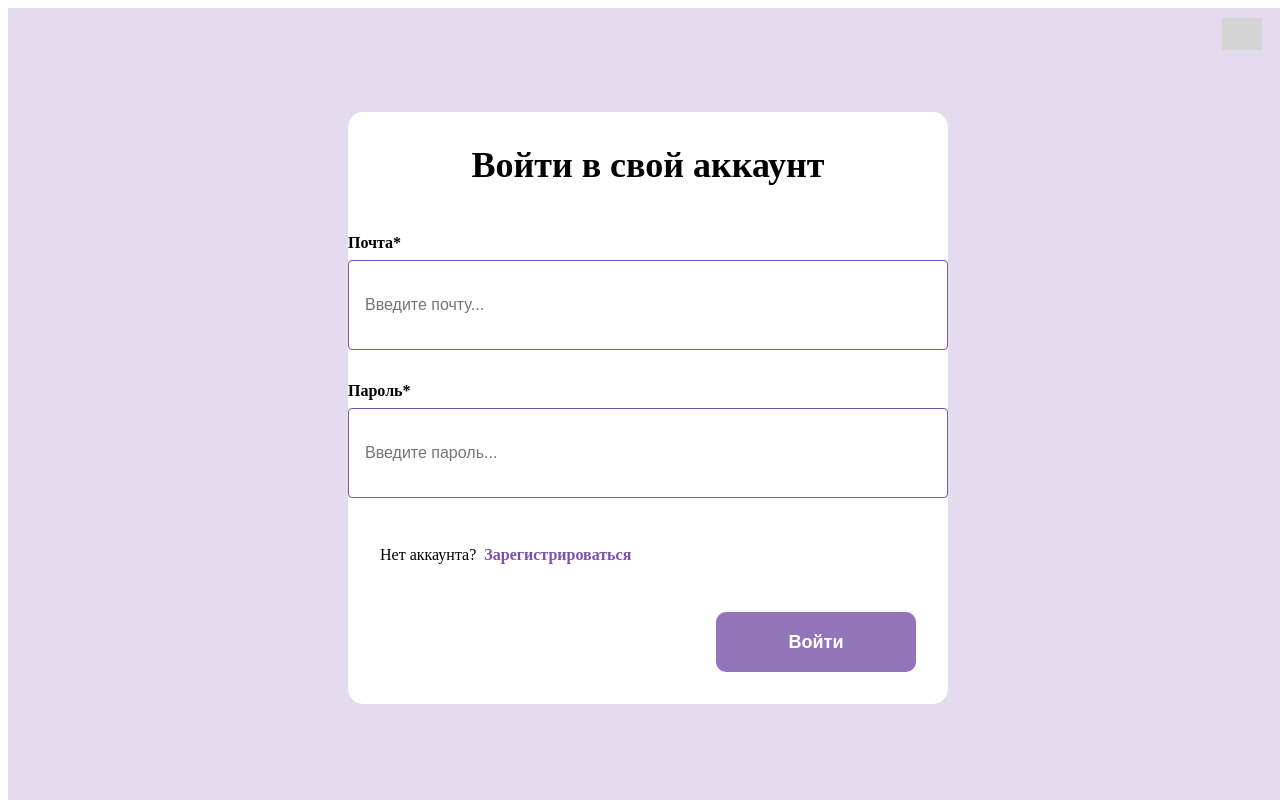
Test: Testing SignIn SUCCESS › submit sign-in form with incorrect email
Type "any email" into the field labelled "Почта*" at (648, 305), box [348,260,948,350]
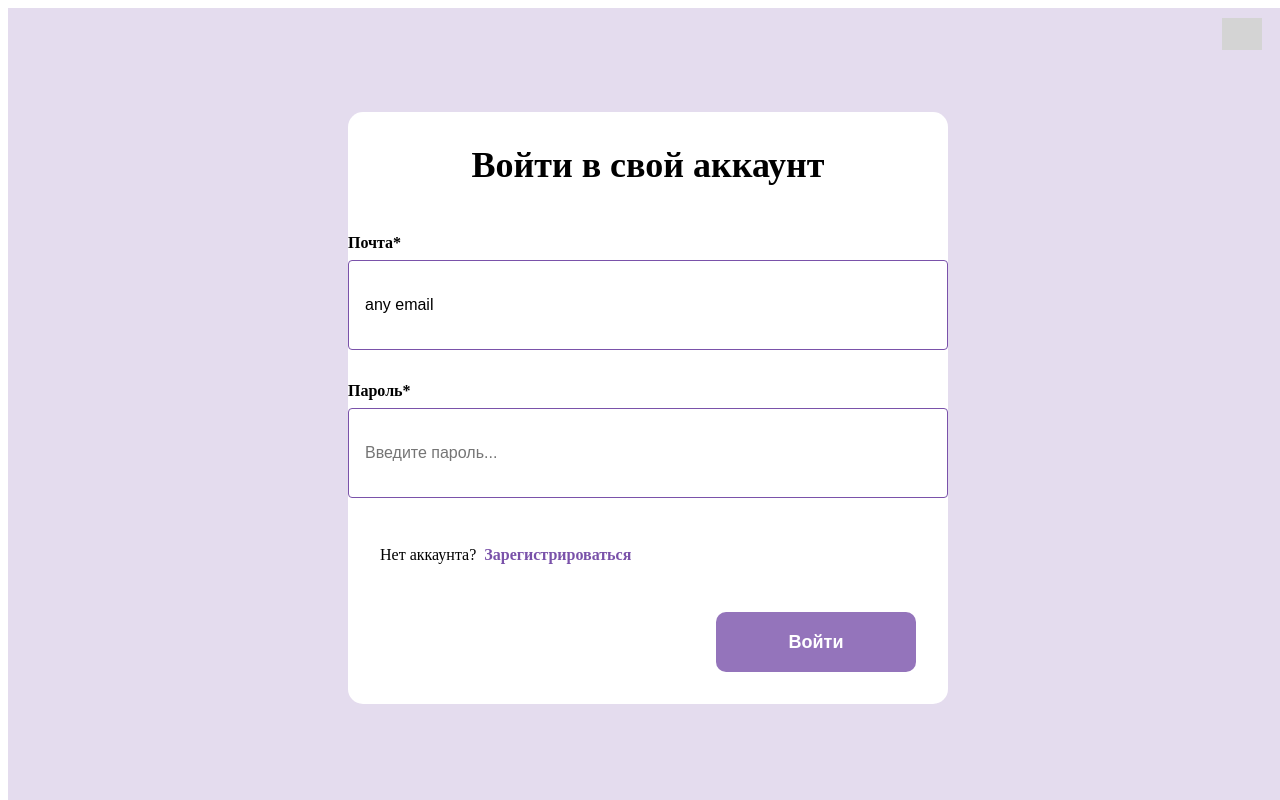
Submit the form from the element with test id "signin-form", box [316,234,980,498]
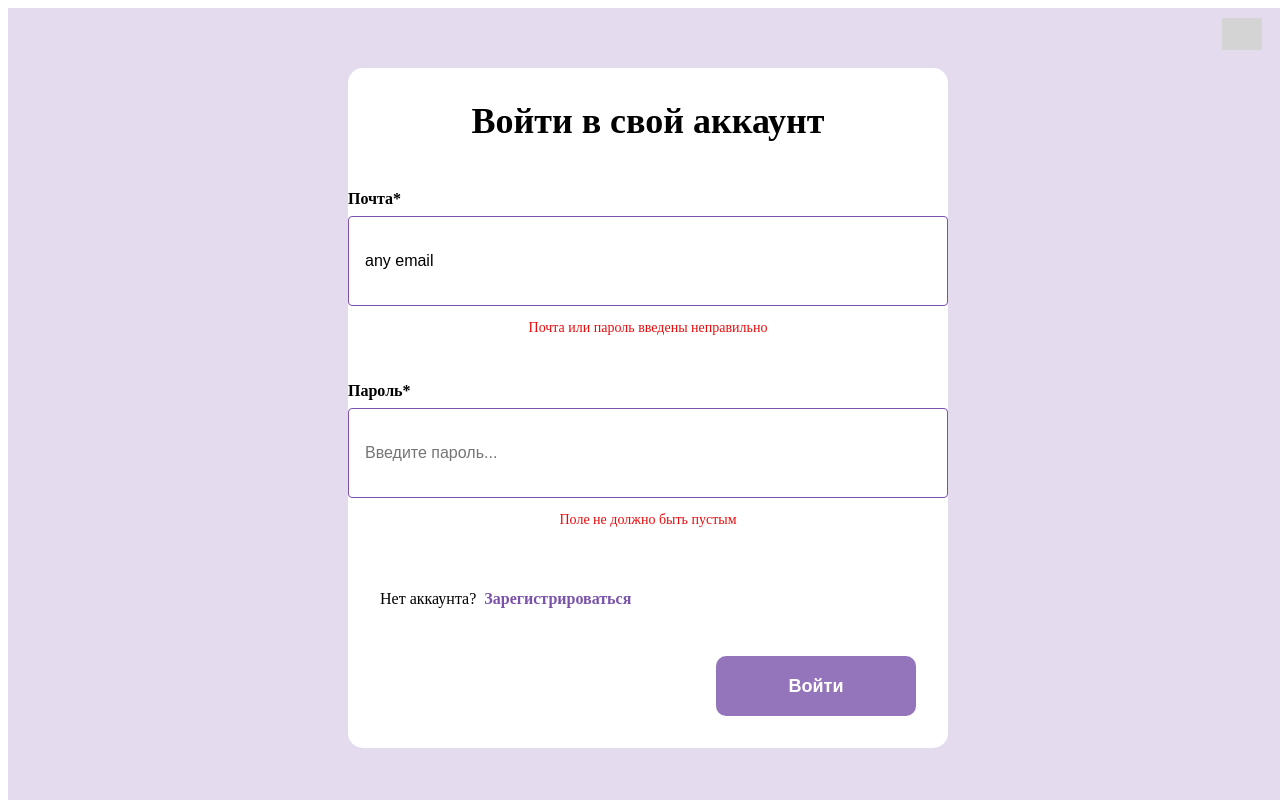
Result: the text "Почта или пароль введены неправильно" is shown at [528,320,767,336]
